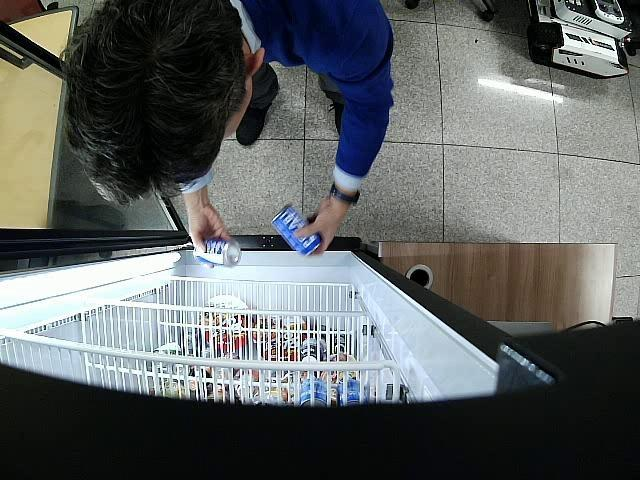13_pocariSweat: (272, 204, 321, 256), (194, 242, 242, 266)
